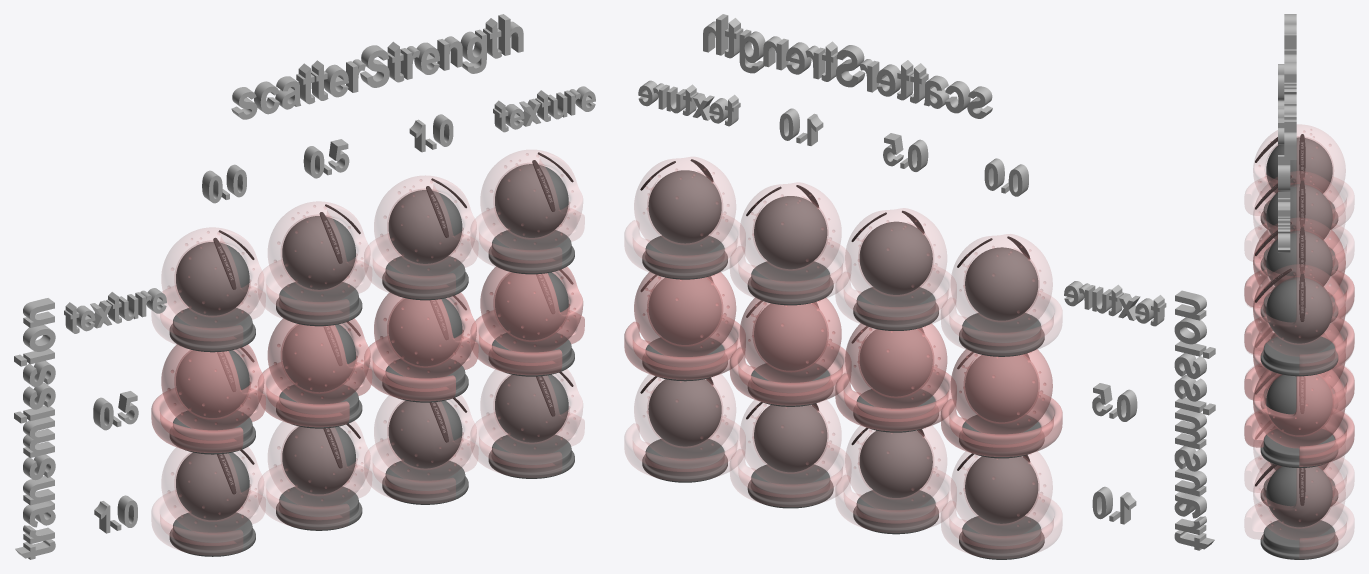
The model's file is ScatterStrengthThinWalled.glb.
The picture shows the model from 3 angles, left to right: view 1: azimuth 30°, elevation 25°; view 2: azimuth 150°, elevation 25°; view 3: azimuth 270°, elevation 25°; orthographic projection. The views are drawn at different scales.
Visible parts, largest first — view 1: material_surface (×11), core (×11), base (×11), scatterStrength, material_surface_n3d, transmission, UI, texture (×2), core_n3d, base_n3d; view 2: material_surface (×11), core (×11), base (×11), material_surface_n3d, scatterStrength, transmission, UI, texture (×2), core_n3d, base_n3d; view 3: material_surface (×10), core (×6), base (×7), sss_bars (×6), scatterStrength, UI, texture.
Boxes of the visible parts, box(x1,y1,x2,y2) form: material_surface (×11): box(151, 150, 584, 529); core (×11): box(176, 164, 568, 494); base (×11): box(169, 230, 574, 530); scatterStrength: box(231, 14, 523, 119); material_surface_n3d: box(151, 447, 265, 554); transmission: box(14, 298, 55, 559); UI: box(93, 114, 453, 533); texture (×2): box(64, 86, 595, 333); core_n3d: box(176, 452, 249, 520); base_n3d: box(169, 512, 255, 556); material_surface (×11): box(624, 157, 1062, 532); core (×11): box(648, 170, 1038, 497); base (×11): box(642, 235, 1044, 534); material_surface_n3d: box(941, 451, 1062, 558); scatterStrength: box(703, 14, 992, 118); transmission: box(1174, 290, 1215, 550); UI: box(779, 108, 1137, 524); texture (×2): box(638, 80, 1166, 326); core_n3d: box(965, 456, 1038, 523); base_n3d: box(959, 516, 1044, 559); material_surface (×10): box(1244, 124, 1354, 558); core (×6): box(1266, 137, 1332, 527); base (×7): box(1260, 200, 1338, 559); sss_bars (×6): box(1255, 134, 1305, 505); scatterStrength: box(1284, 14, 1296, 159); UI: box(1278, 64, 1290, 190); texture: box(1278, 191, 1290, 252).
Bounding box in the file's own units: 0.4833 × 0.3657 × 0.0892.
15 materials, 1 textured.
